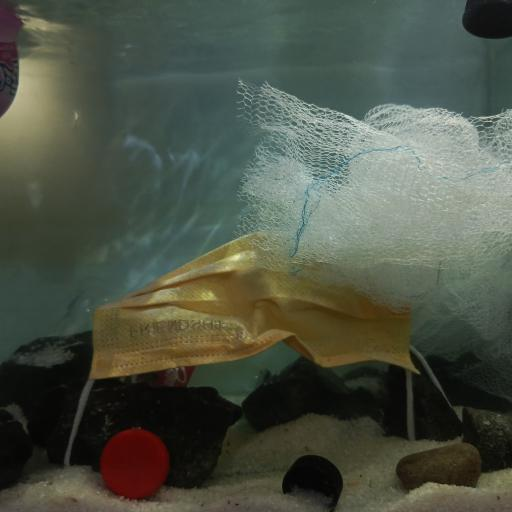bottle_cap: (100, 428, 169, 498), (281, 453, 344, 512), (460, 0, 512, 40)
mask: (86, 231, 425, 383)
net: (234, 71, 512, 353)
plastic_bottle: (58, 290, 273, 386), (1, 41, 23, 118)
